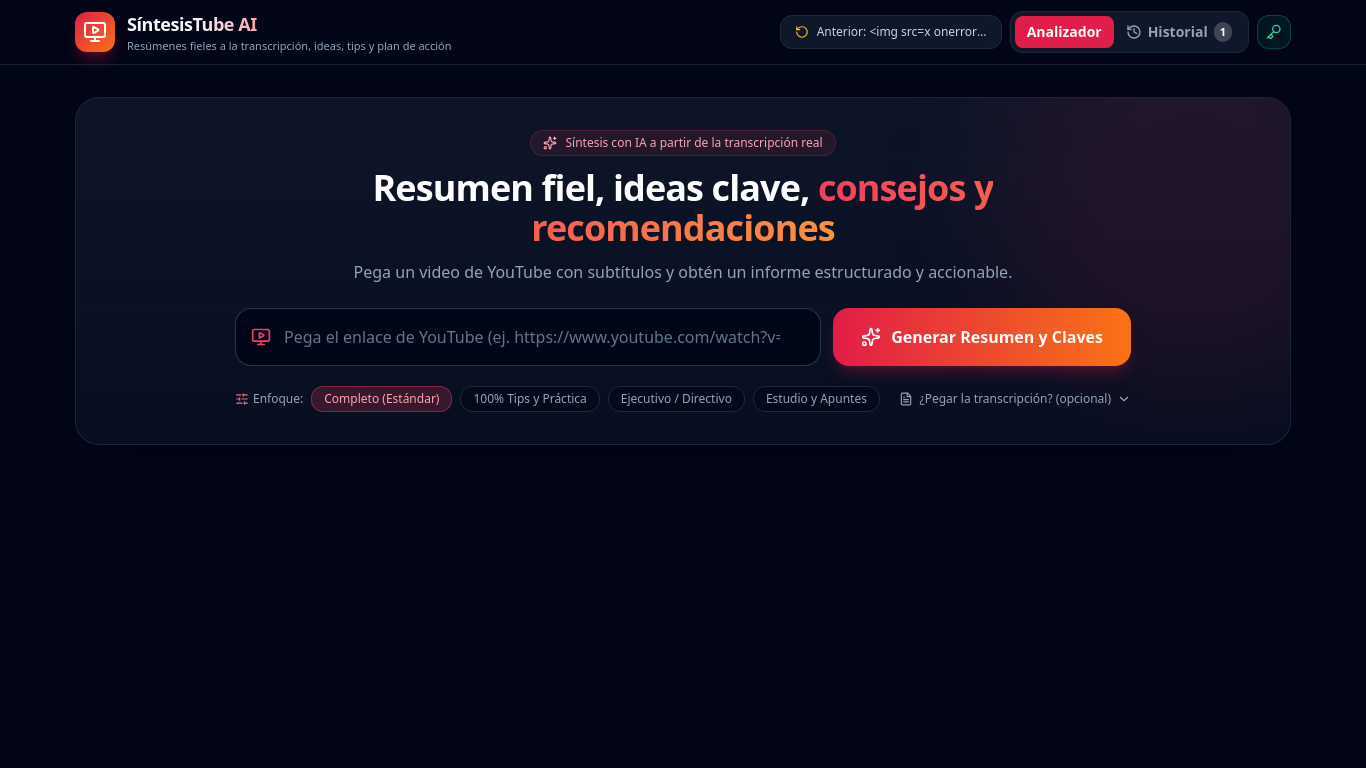
Test: SEC · XSS: la salida del modelo se renderiza SIEMPRE como texto › un historial persistido con payloads XSS se renderiza como texto
Click the button "Historial 1": (1179, 32) [1114,16,1244,48]
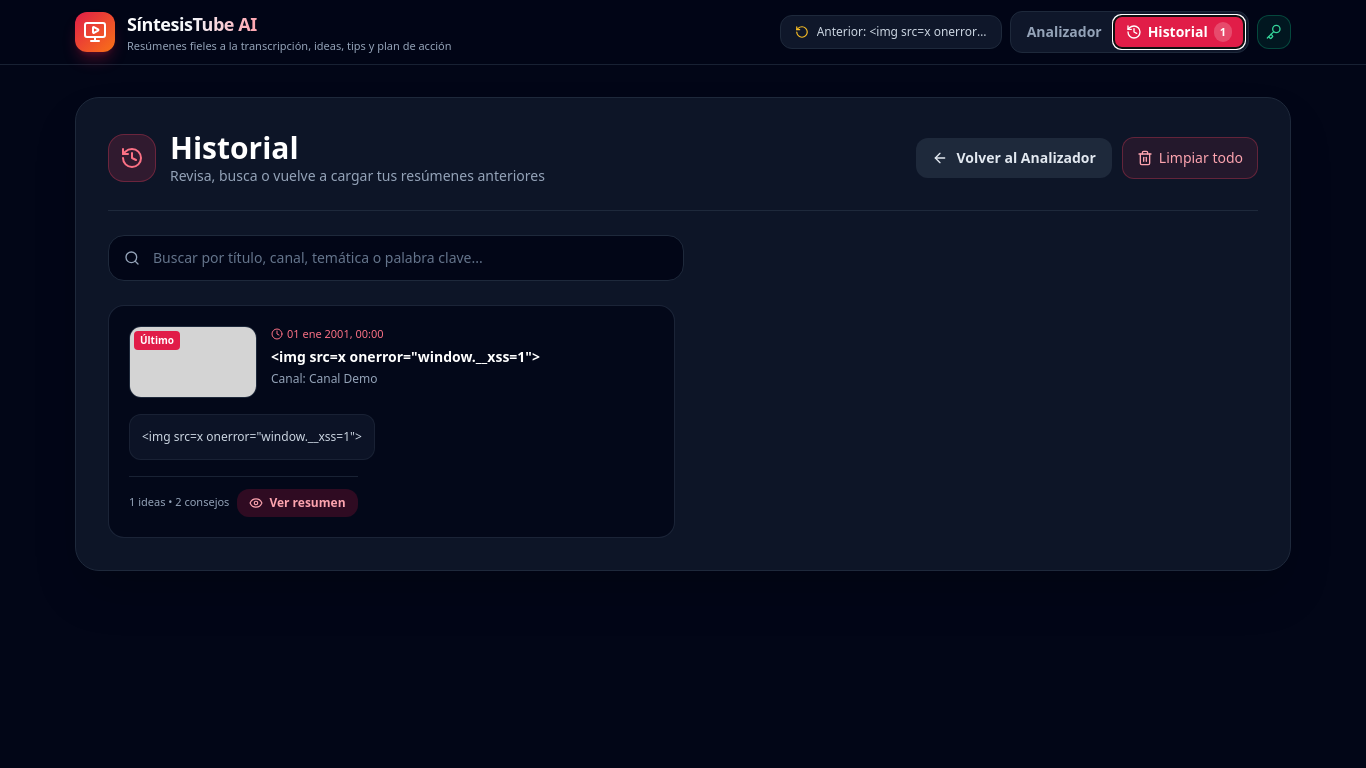
Now the list with test id "history-list" is shown, box [108,305,675,538]
